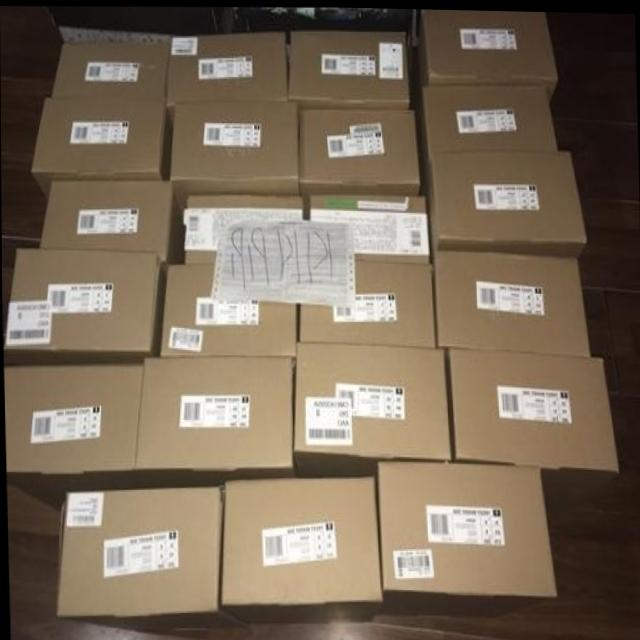box: (446, 344, 616, 523), (376, 459, 555, 617), (55, 480, 239, 631), (217, 475, 380, 622), (292, 338, 452, 476), (135, 353, 293, 486), (4, 360, 140, 509), (3, 248, 168, 364), (423, 146, 585, 255), (433, 246, 589, 350), (30, 95, 171, 202), (415, 7, 557, 106), (170, 99, 299, 207), (548, 390, 640, 529), (161, 262, 295, 356), (165, 32, 287, 133), (298, 255, 436, 343), (38, 180, 184, 262), (417, 86, 558, 169), (300, 105, 419, 194), (288, 28, 408, 107), (307, 189, 428, 258), (183, 192, 302, 262), (554, 113, 639, 198), (580, 280, 640, 393), (51, 41, 170, 96), (551, 47, 635, 119), (578, 196, 640, 284), (0, 7, 61, 79), (1, 236, 39, 335), (1, 168, 47, 234), (9, 482, 63, 531), (0, 78, 52, 124), (1, 122, 37, 169)
